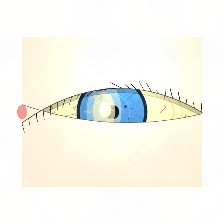corneal_ulcer: (74, 86, 134, 135)
